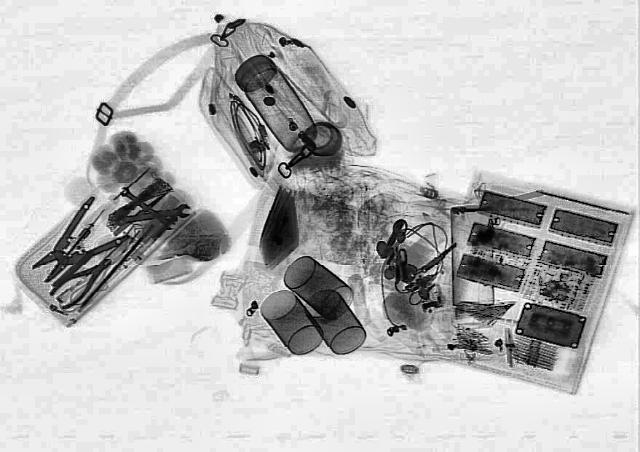Pliers: (7, 194, 145, 290), (38, 252, 125, 310)
Wrench: (114, 186, 178, 231), (111, 202, 193, 228)
